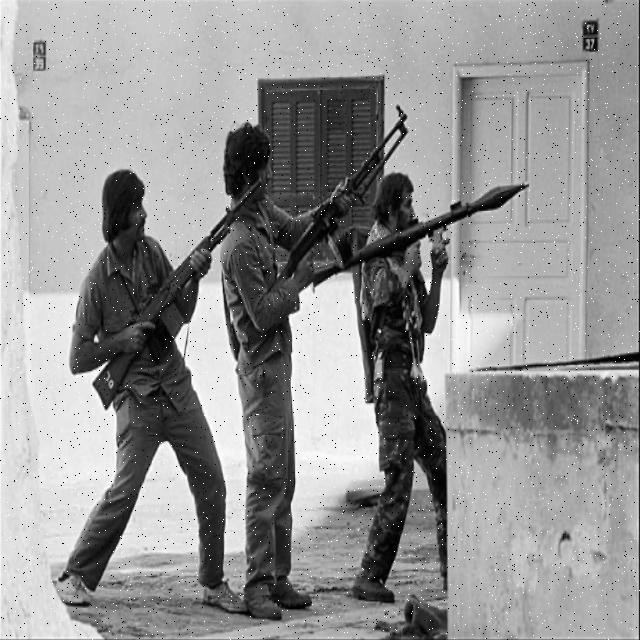bazooka: (313, 168, 561, 308)
